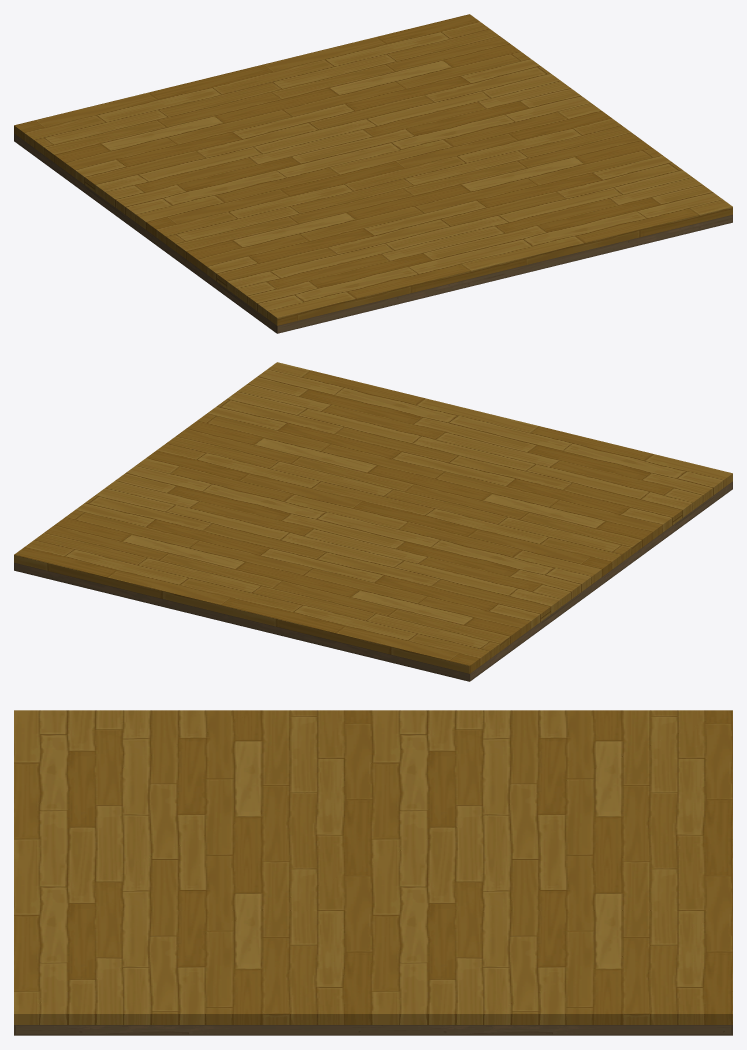
The model's file is SM_building_floor_01.glb.
3 renders of one model, top to bottom at view 1: azimuth 30°, elevation 25°; view 2: azimuth 150°, elevation 25°; view 3: azimuth 270°, elevation 25°, orthographic. The views are drawn at different scales.
Visible parts, largest first — view 1: SM_building_floor_01; view 2: SM_building_floor_01; view 3: SM_building_floor_01.
Boxes of the visible parts, x1=… form: SM_building_floor_01: x1=14, y1=14, x2=732, y2=333; SM_building_floor_01: x1=14, y1=362, x2=732, y2=681; SM_building_floor_01: x1=14, y1=710, x2=732, y2=1035.
Bounding box in the file's own units: 6 × 0.2 × 6.
3 materials, 3 textured.
